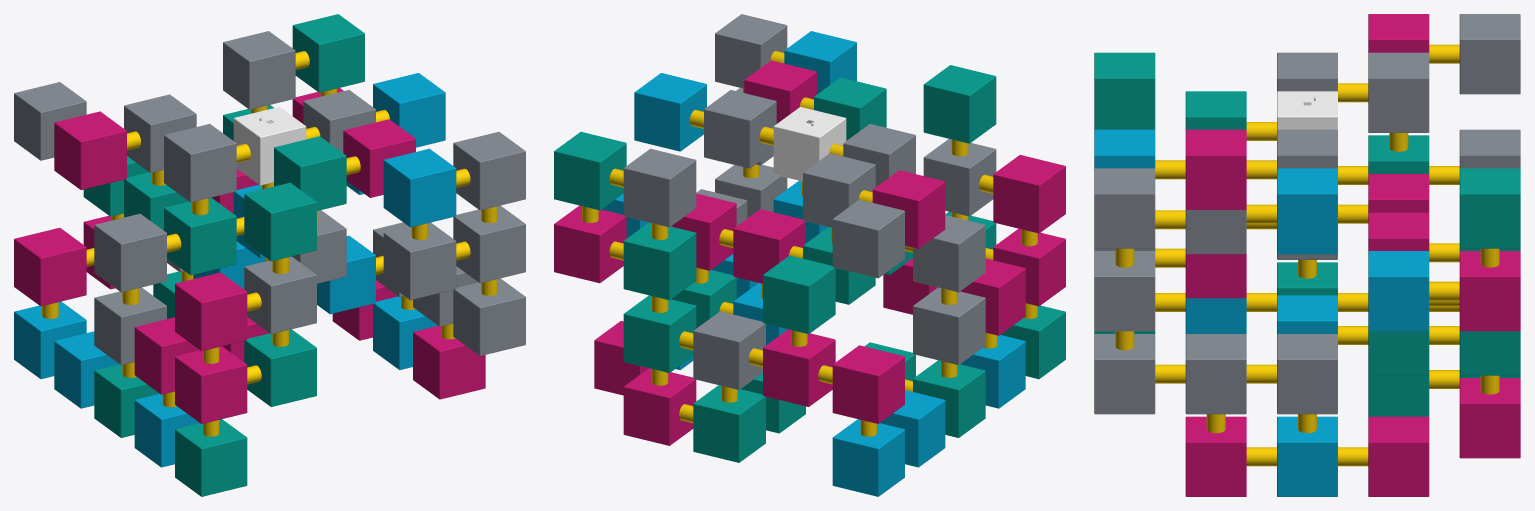
The model's file is station-1.glb.
3 views of the same model, side by side, from view 1: azimuth 30°, elevation 25°; view 2: azimuth 150°, elevation 25°; view 3: azimuth 270°, elevation 25° (orthographic). The views are drawn at different scales.
Parts seen in each view (by area): view 1: Cube.006, Cube.002, Cube.013, Cube, Cube.009, Cube.014, Cube.031, Cube.003, Cube.022, Cube.043, Cube.028, Cube.040 (+32 smaller); view 2: Cube.009, Cube.002, Cube.013, Cube.001, Cube.031, Cube.018, Cube.024, Cube.047, Cube.030, Cube.050, Cube.011, Cube.012 (+32 smaller); view 3: Cube.001, Cube.007, Cube.041, Cube.054, Cube.004, Cube.010, Cube.012, Cube.026, Cube.011, Cube.042, Cube.002, Cube.040 (+46 smaller).
Boxes of the visible parts, bbox=[...] form: Cube.006: bbox=[383, 148, 456, 227]; Cube.002: bbox=[244, 182, 316, 261]; Cube.013: bbox=[175, 272, 247, 351]; Cube: bbox=[54, 111, 126, 189]; Cube.009: bbox=[223, 31, 295, 109]; Cube.014: bbox=[94, 213, 166, 292]; Cube.031: bbox=[14, 227, 86, 306]; Cube.003: bbox=[164, 124, 236, 202]; Cube.022: bbox=[383, 222, 456, 300]; Cube.043: bbox=[175, 419, 247, 496]; Cube.028: bbox=[175, 346, 247, 423]; Cube.040: bbox=[453, 278, 525, 355]; Cube.009: bbox=[623, 148, 696, 227]; Cube.002: bbox=[923, 65, 996, 143]; Cube.013: bbox=[993, 155, 1065, 233]; Cube.001: bbox=[832, 199, 904, 278]; Cube.031: bbox=[832, 345, 904, 423]; Cube.018: bbox=[763, 255, 835, 334]; Cube.024: bbox=[623, 222, 696, 300]; Cube.047: bbox=[832, 419, 904, 496]; Cube.030: bbox=[913, 287, 985, 365]; Cube.050: bbox=[693, 385, 765, 462]; Cube.011: bbox=[634, 73, 706, 151]; Cube.012: bbox=[554, 131, 626, 210]; Cube.001: bbox=[1459, 14, 1520, 94]; Cube.007: bbox=[1185, 129, 1246, 209]; Cube.041: bbox=[1185, 334, 1246, 414]; Cube.054: bbox=[1368, 416, 1429, 496]; Cube.004: bbox=[1368, 52, 1429, 132]; Cube.010: bbox=[1094, 168, 1155, 248]; Cube.012: bbox=[1459, 168, 1520, 248]; Cube.026: bbox=[1368, 251, 1429, 331]; Cube.011: bbox=[1277, 168, 1337, 248]; Cube.042: bbox=[1277, 334, 1337, 414]; Cube.002: bbox=[1094, 52, 1155, 129]; Cube.040: bbox=[1094, 334, 1155, 414].
Size of the model in its own units: 896 by 712 by 896.
